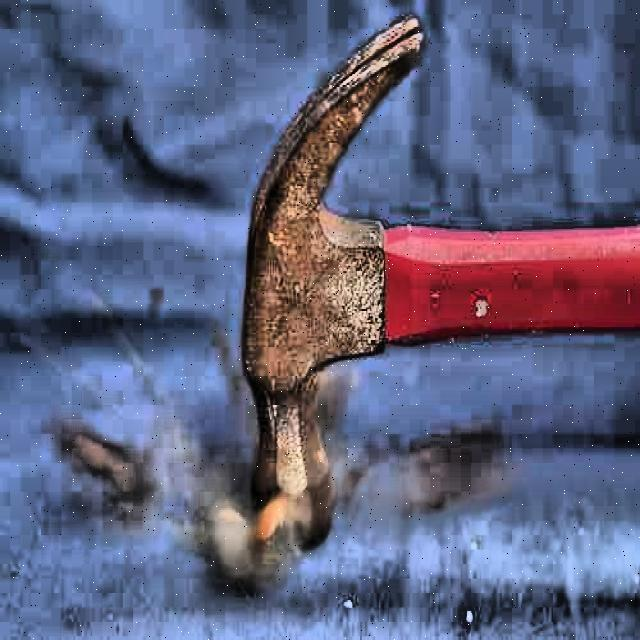hammer: (234, 12, 640, 546)
